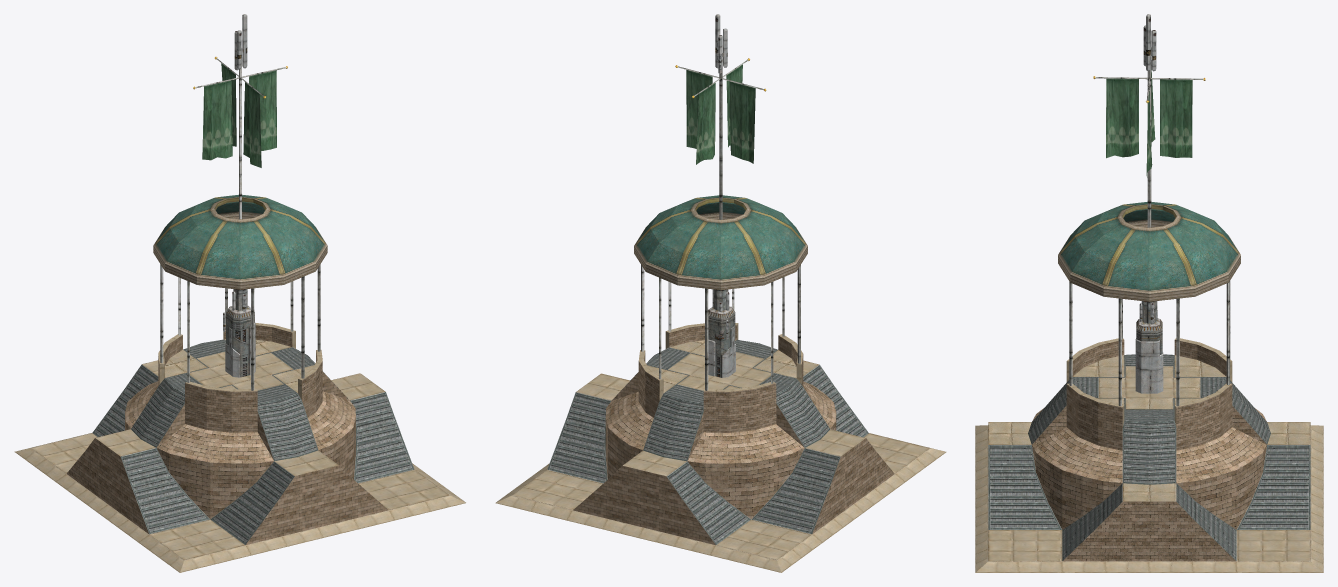
The model's file is ply_nboo_bank_s01_l0.fbx.
3 renders of one model, left to right at view 1: azimuth 30°, elevation 25°; view 2: azimuth 150°, elevation 25°; view 3: azimuth 270°, elevation 25°, orthographic. The views are drawn at different scales.
Parts seen in each view (by area): view 1: mesh_node; view 2: mesh_node; view 3: mesh_node.
Part boxes in pixels (bbox=[...]): mesh_node: bbox=[14, 14, 465, 572]; mesh_node: bbox=[495, 14, 946, 572]; mesh_node: bbox=[975, 14, 1323, 572].
Size of the model in its own units: 16 by 24.64 by 16.
